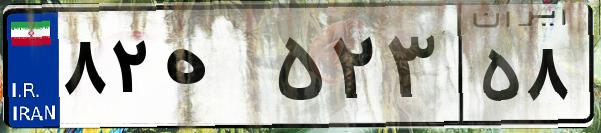2: (330, 28, 385, 110), (110, 28, 158, 98)
3: (385, 28, 445, 110)
5: (270, 28, 330, 110), (475, 38, 525, 113)
8: (57, 26, 110, 100), (525, 38, 570, 115)
ه: (158, 20, 270, 120)
